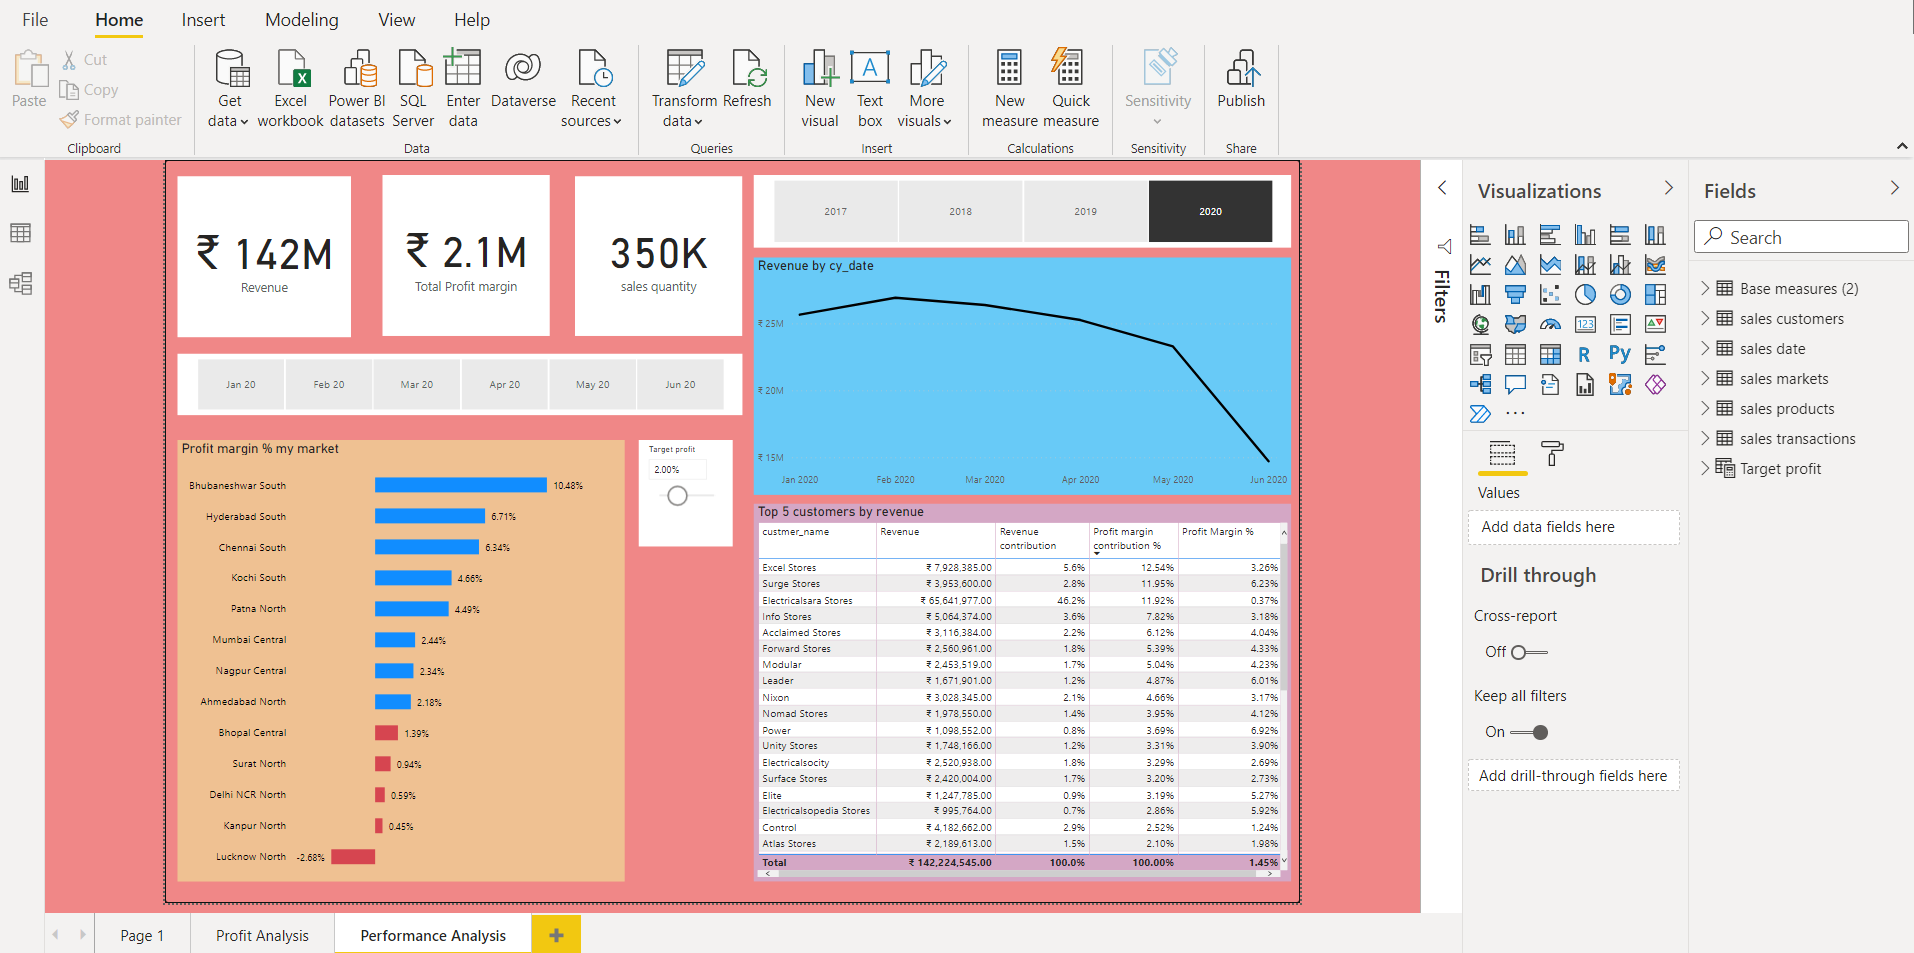

The dashboard page shown, as its layout file describes it:
{"tool":"powerbi","page":{"name":"Performance Analysis","canvas":[1450,950],"ordinal":2},"visuals":[{"type":"card","fields":{"Values":["Base measures (2).Revenue"]},"box":[16,20.8,221.9,206],"z":0},{"type":"card","fields":{"Values":["Base measures (2).sales quantity"]},"box":[523.7,20.8,213.9,204.4],"z":1000},{"type":"barChart","title":"Profit margin % my market","fields":{"Category":["sales markets.markets_name","sales markets.zone"],"Y":["Base measures (2).Profit Margin %"]},"box":[16,357.6,571.6,563.6],"z":2000},{"type":"slicer","fields":{"Values":["sales date.year"]},"box":[752,19.2,686.6,92.6],"z":3000},{"type":"slicer","fields":{"Values":["sales date.cy_date"]},"box":[16,247.5,721.7,78.2],"z":4000},{"type":"lineChart","fields":{"Y":["Base measures (2).Revenue"],"Category":["sales date.cy_date"]},"box":[752,124.5,686.6,303.4],"z":5000},{"type":"tableEx","title":"Top 5 customers by revenue","fields":{"Values":["sales customers.custmer_name","Base measures (2).Revenue","Base measures (2).Revenue contribution","Base measures (2).Profit margin contribution %","Base measures (2).Profit Margin %"]},"box":[752,439.1,686.6,482.2],"z":6000},{"type":"card","fields":{"Values":["Base measures (2).Total profit"]},"box":[277.8,19.2,213.9,206],"z":7000},{"type":"slicer","fields":{"Values":["Target profit.Target profit"]},"box":[605.1,357.6,119.7,135.7],"z":8000}]}

Visuals, with their boxes on the page's 1450x950 design canvas (x1, y1, x2, y2). These are canvas units, not pixel positions in the 1914x953 screenshot, which may show the page scaled, cropped or inside an application window:
card - Base measures (2).Revenue: <box>16,21,238,227</box>
card - Base measures (2).sales quantity: <box>524,21,738,225</box>
"Profit margin % my market" barChart: <box>16,358,588,921</box>
slicer - sales date.year: <box>752,19,1439,112</box>
slicer - sales date.cy_date: <box>16,248,738,326</box>
lineChart - Base measures (2).Revenue x sales date.cy_date: <box>752,124,1439,428</box>
"Top 5 customers by revenue" tableEx: <box>752,439,1439,921</box>
card - Base measures (2).Total profit: <box>278,19,492,225</box>
slicer - Target profit.Target profit: <box>605,358,725,493</box>
